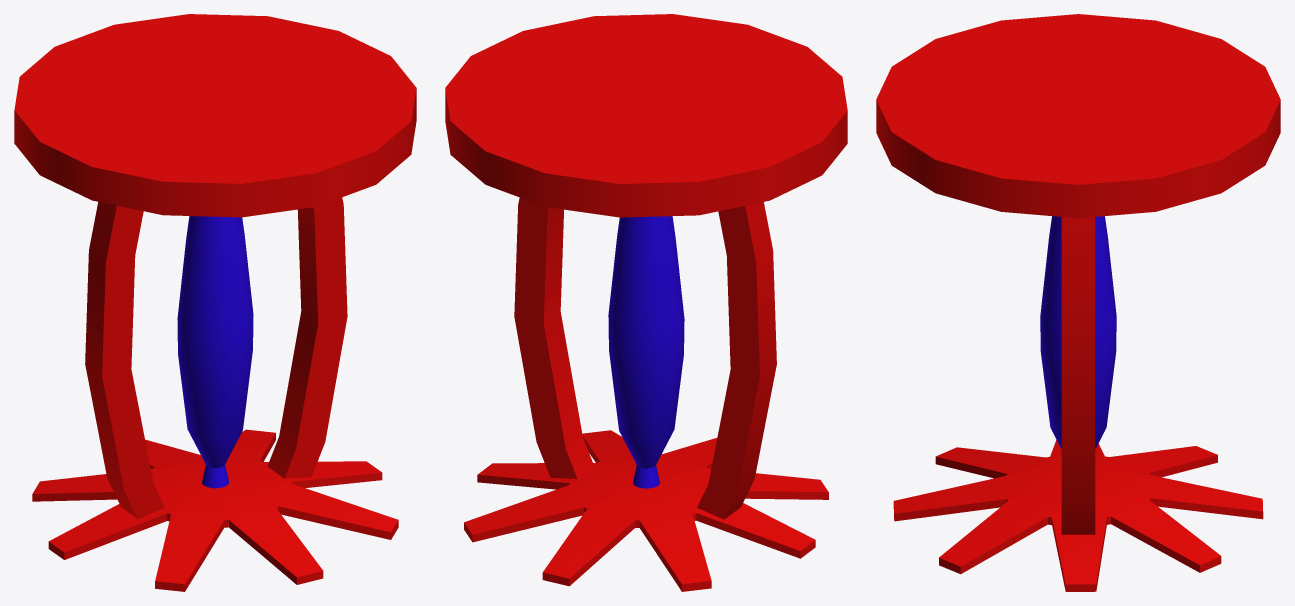
Rendered from SproeierCallCenter.fbx.
3 renders of one model, left to right at view 1: azimuth 30°, elevation 25°; view 2: azimuth 150°, elevation 25°; view 3: azimuth 270°, elevation 25°, orthographic.
Parts seen in each view (by area): view 1: Sprinklers; view 2: Sprinklers; view 3: Sprinklers.
Part boxes in pixels (left/top/right/bottom): Sprinklers: left=14, top=14, right=416, bottom=591; Sprinklers: left=445, top=14, right=847, bottom=591; Sprinklers: left=876, top=14, right=1280, bottom=591.
Size of the model in its own units: 7 by 6.19 by 6.19.
